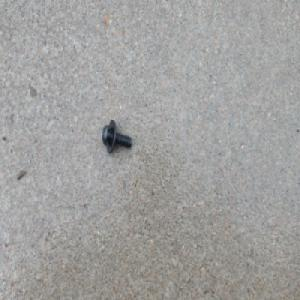BoltWasher: (102, 118, 132, 153)
